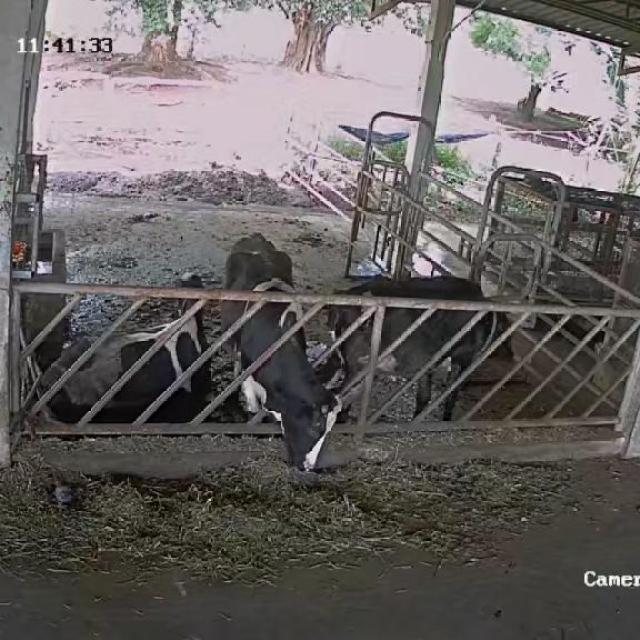feeding: (219, 228, 344, 480)
lying down: (35, 268, 214, 431)
standing: (324, 268, 519, 416)
